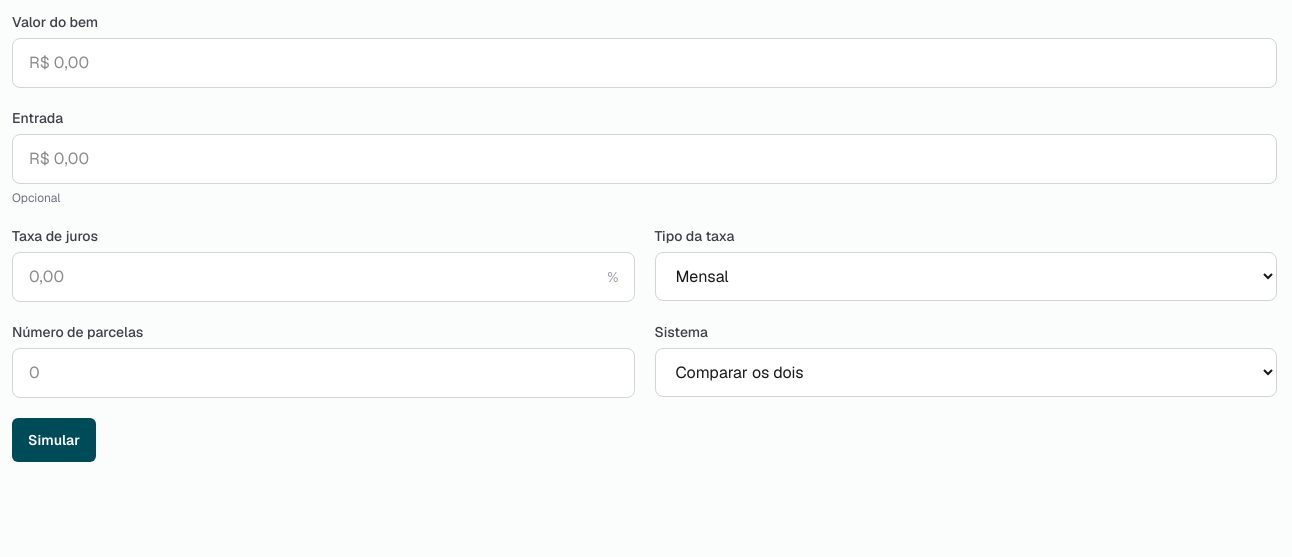
Test: FinancingForm — validações › mostra erros quando o formulário está vazio (valor do bem, taxa e parcelas)
Click the button "Simular" at (54, 440), box [12,418,96,462]
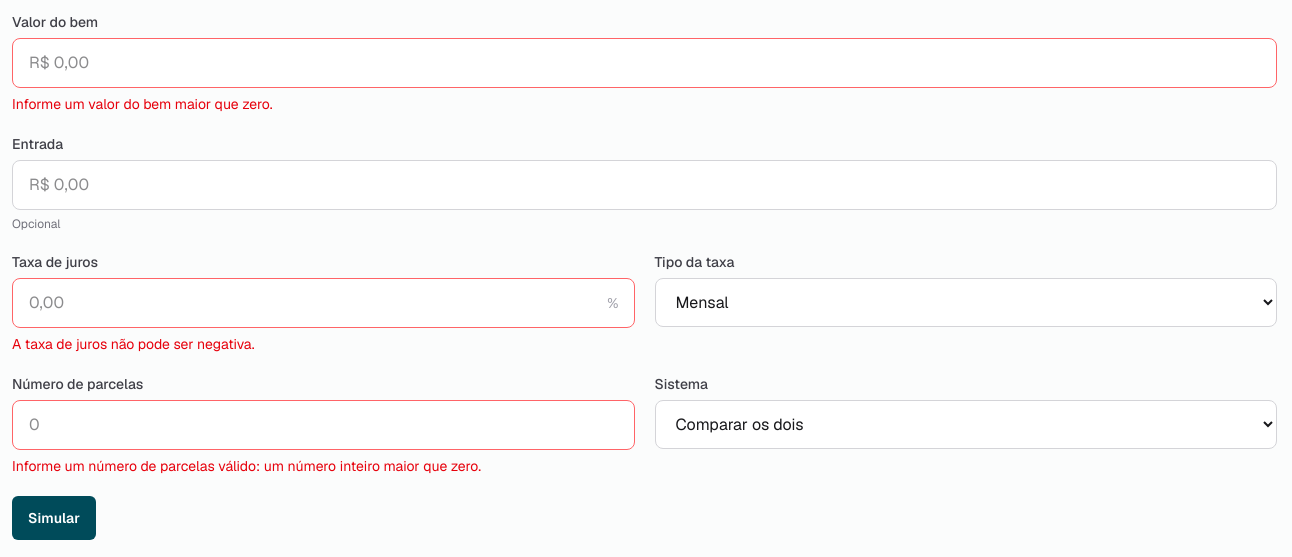
Expected: the text "Informe um valor do bem maior que zero." is shown, [12,95,273,113]
Expected: the text "A taxa de juros não pode ser negativa." is shown, [12,335,255,353]
Expected: the text "Informe um número de parcelas válido: um número inteiro maior que zero." is shown, [12,457,481,475]
